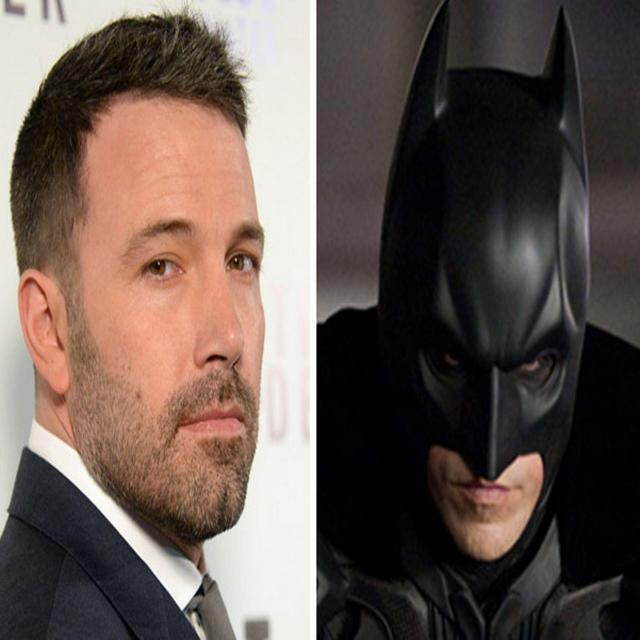no-earmuff: (12, 254, 82, 411)
